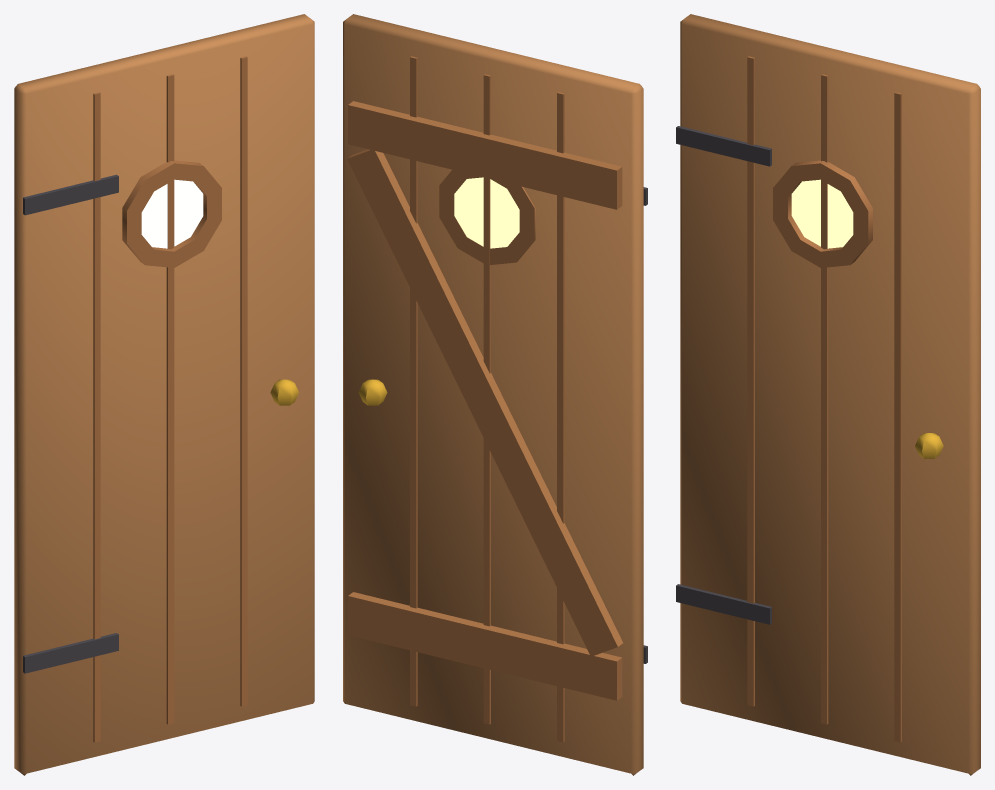
The model's file is door_wood.glb.
3 views of the same model, side by side, from view 1: azimuth 30°, elevation 25°; view 2: azimuth 150°, elevation 25°; view 3: azimuth 330°, elevation 25° (orthographic).
Visible parts, largest first — view 1: door_wood; view 2: door_wood; view 3: door_wood.
Part boxes in pixels (x1,y1,x2,y2): door_wood: [14, 14, 314, 775]; door_wood: [343, 14, 647, 775]; door_wood: [676, 14, 980, 775].
Size of the model in its own units: 0.94 by 2.1 by 0.2.
Materials: 2 (2 with a texture image).
